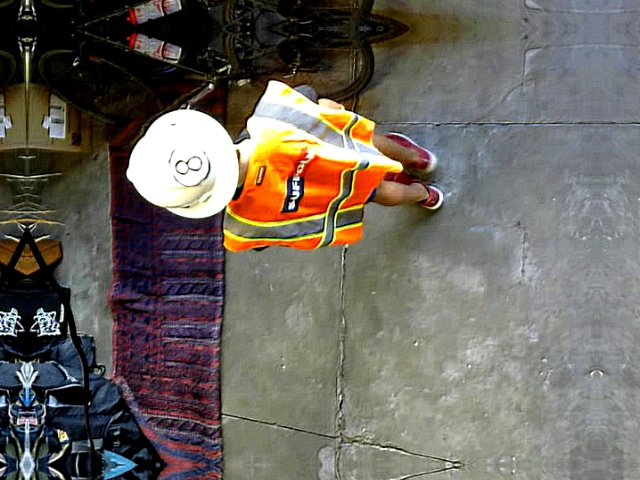eight: (164, 141, 209, 185)
